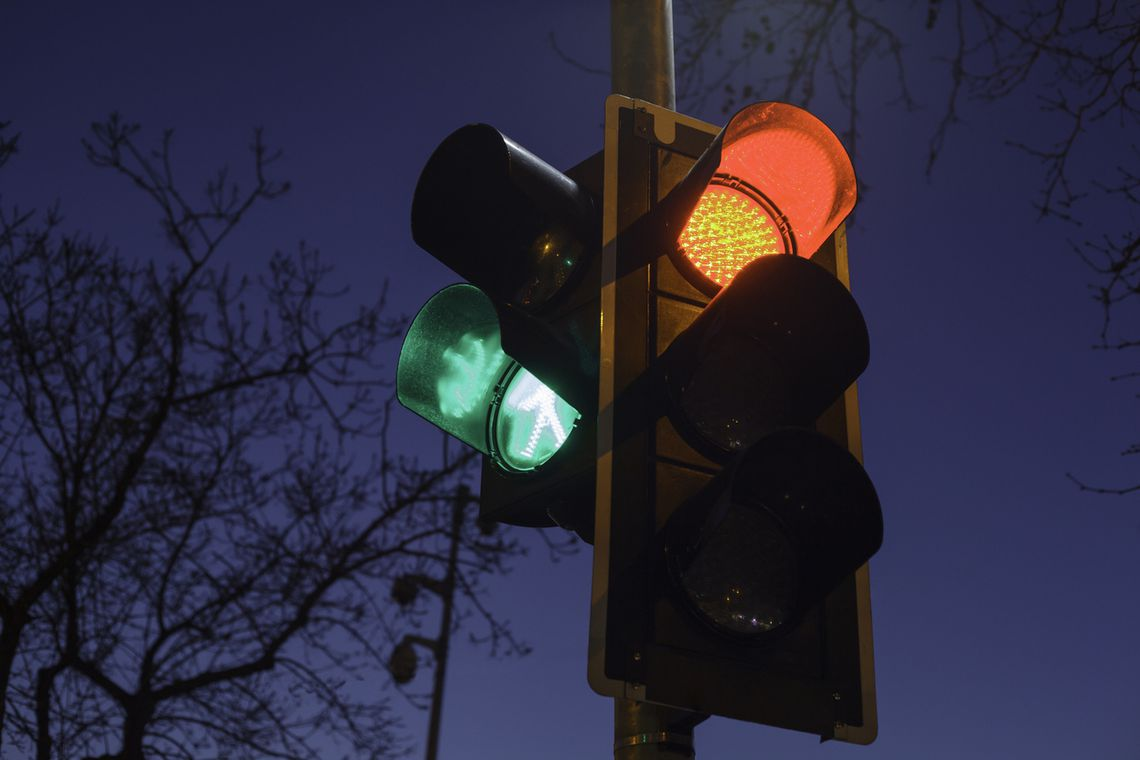pole: (610, 2, 678, 108)
traffic light: (603, 93, 873, 730), (401, 122, 600, 504)
tree branches: (86, 322, 252, 481), (161, 608, 303, 688), (994, 20, 1062, 63)
